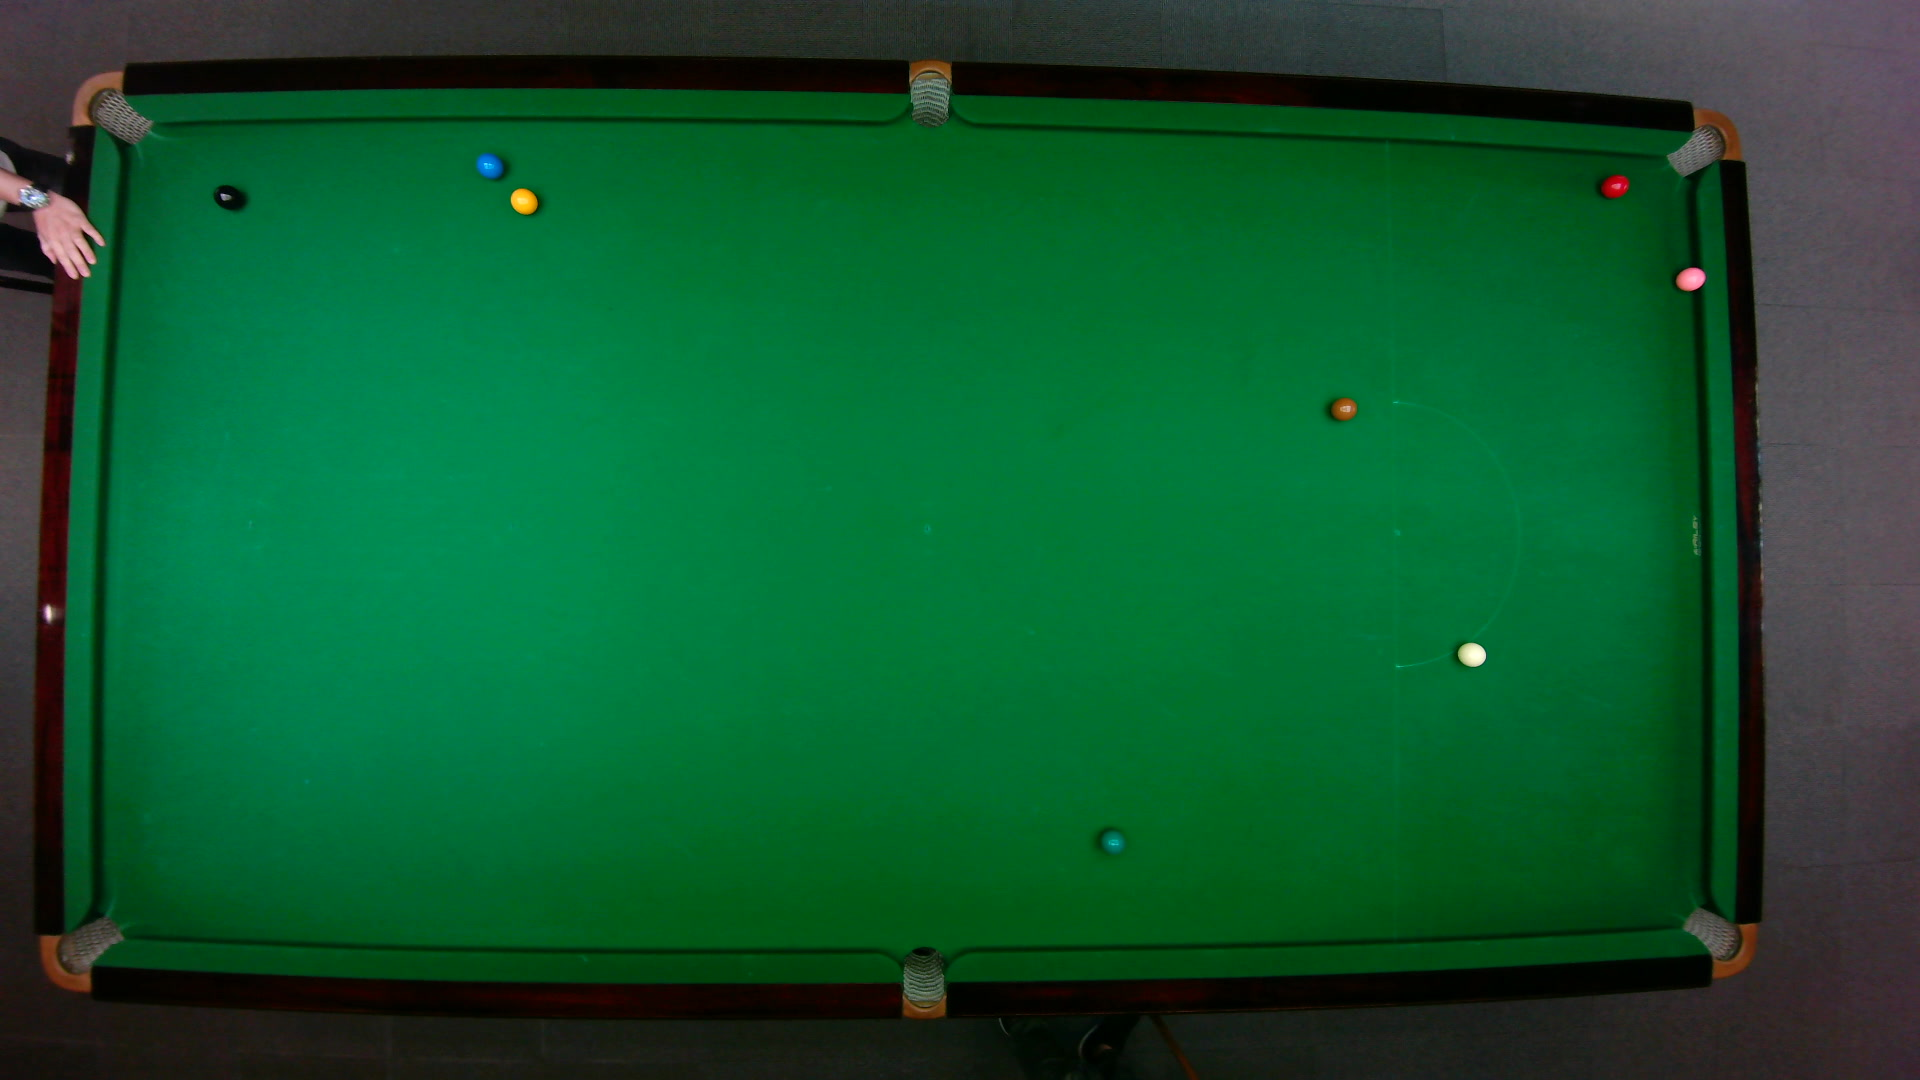bag: (37, 913, 125, 992), (69, 69, 152, 145), (1679, 905, 1756, 978), (1663, 107, 1741, 177), (901, 944, 944, 1021), (909, 57, 949, 128)
black: (212, 183, 243, 210)
blue: (475, 152, 504, 179)
brown: (1328, 396, 1358, 421)
green: (1098, 825, 1127, 855)
pink: (1673, 264, 1706, 291)
red: (1600, 171, 1631, 198)
white: (1455, 640, 1487, 667)
yellow: (508, 186, 539, 216)
zone: (1390, 398, 1520, 669)
